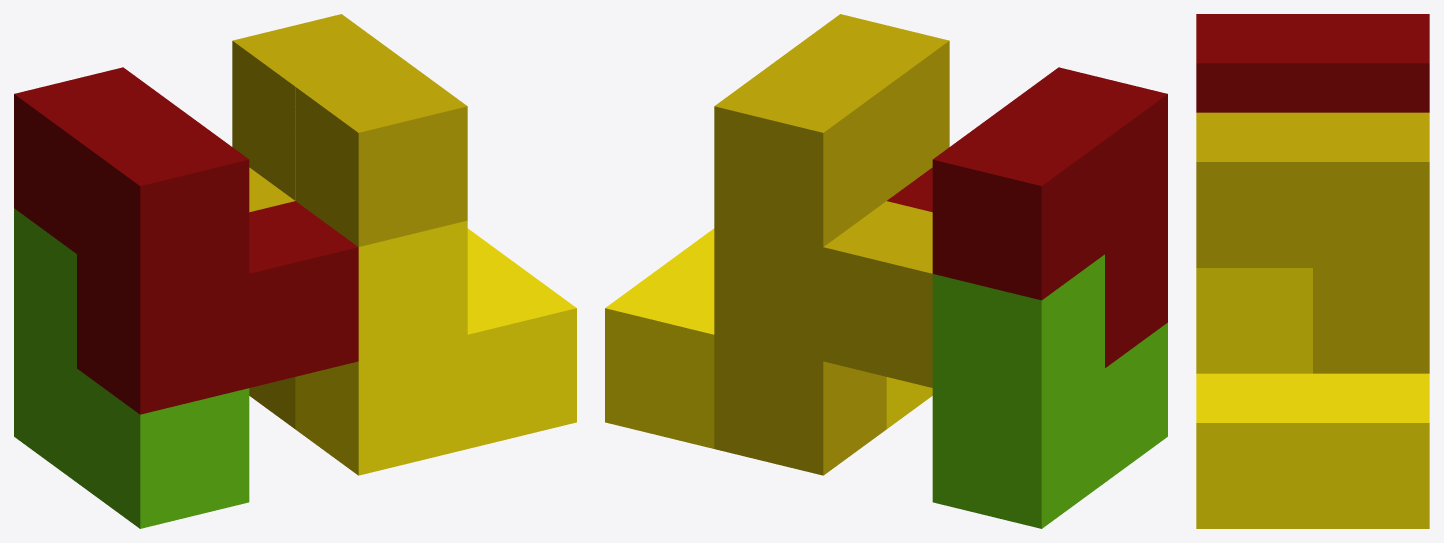
3 views of the same model, side by side, from view 1: azimuth 30°, elevation 25°; view 2: azimuth 150°, elevation 25°; view 3: azimuth 270°, elevation 25° (orthographic). The views are drawn at different scales.
Parts seen in each view (by area): view 1: mergedBlocks(Clone); view 2: mergedBlocks(Clone); view 3: mergedBlocks(Clone).
Boxes of the visible parts, x1,y1,x2,y2 form: mergedBlocks(Clone): (14, 14, 576, 528); mergedBlocks(Clone): (605, 14, 1167, 528); mergedBlocks(Clone): (1196, 14, 1429, 528).
Size of the model in its own units: 4 by 3 by 2.
4 materials, 4 textured.
